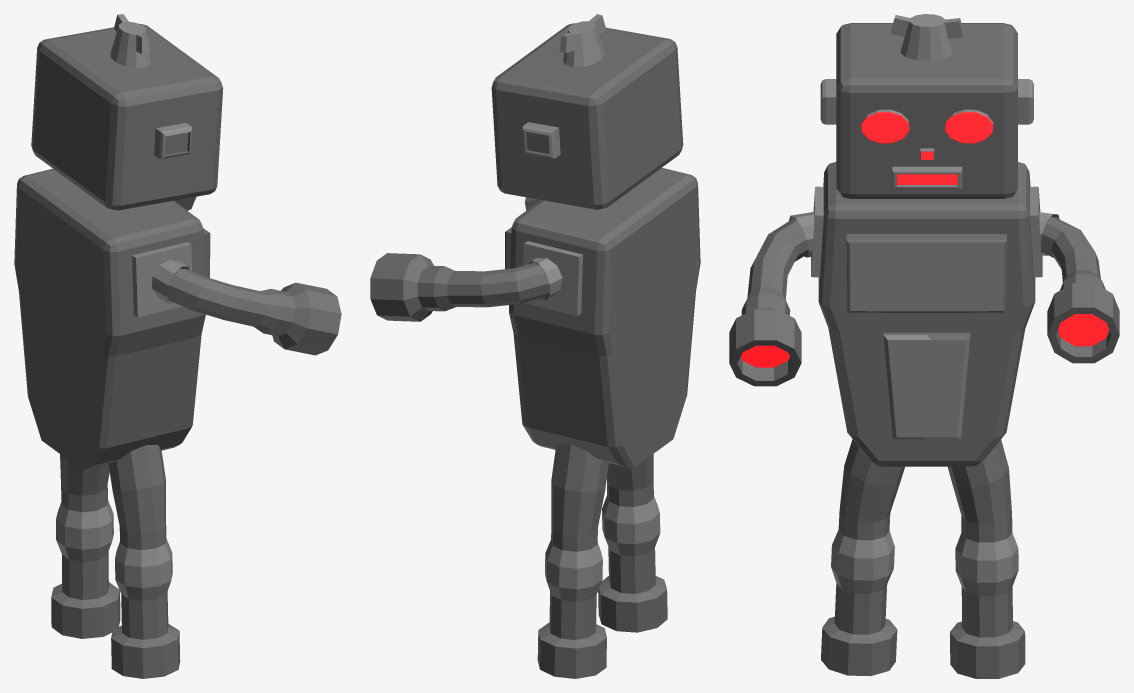
Rendered from robot dañado(malomalo).glb.
3 renders of one model, left to right at view 1: azimuth 30°, elevation 25°; view 2: azimuth 150°, elevation 25°; view 3: azimuth 270°, elevation 25°, orthographic. The views are drawn at different scales.
Visible parts, largest first — view 1: torso.001, cabeza.001, pierna 2, pierna, brazo2, hombro2; view 2: torso.001, cabeza.001, pierna, pierna 2, brazo, hombro; view 3: torso.001, cabeza.001, pierna, pierna 2, brazo2, brazo, hombro, hombro2.
Part boxes in pixels (box(x1,y1,x2,y2)): torso.001: box(14, 168, 210, 468); cabeza.001: box(31, 14, 223, 210); pierna 2: box(108, 444, 180, 678); pierna: box(51, 454, 120, 638); brazo2: box(152, 259, 341, 355); hombro2: box(132, 242, 191, 316); torso.001: box(505, 168, 700, 467); cabeza.001: box(491, 14, 683, 209); pierna: box(537, 444, 608, 678); pierna 2: box(598, 454, 667, 632); brazo: box(370, 253, 562, 321); hombro: box(523, 241, 582, 315); torso.001: box(818, 162, 1035, 466); cabeza.001: box(820, 14, 1033, 198); pierna: box(947, 439, 1025, 678); pierna 2: box(821, 439, 904, 676); brazo2: box(729, 212, 814, 386); brazo: box(1039, 212, 1119, 363); hombro: box(1030, 186, 1042, 277); hombro2: box(811, 186, 823, 277).
Size of the model in its own units: 3.04 by 8.97 by 4.84.
